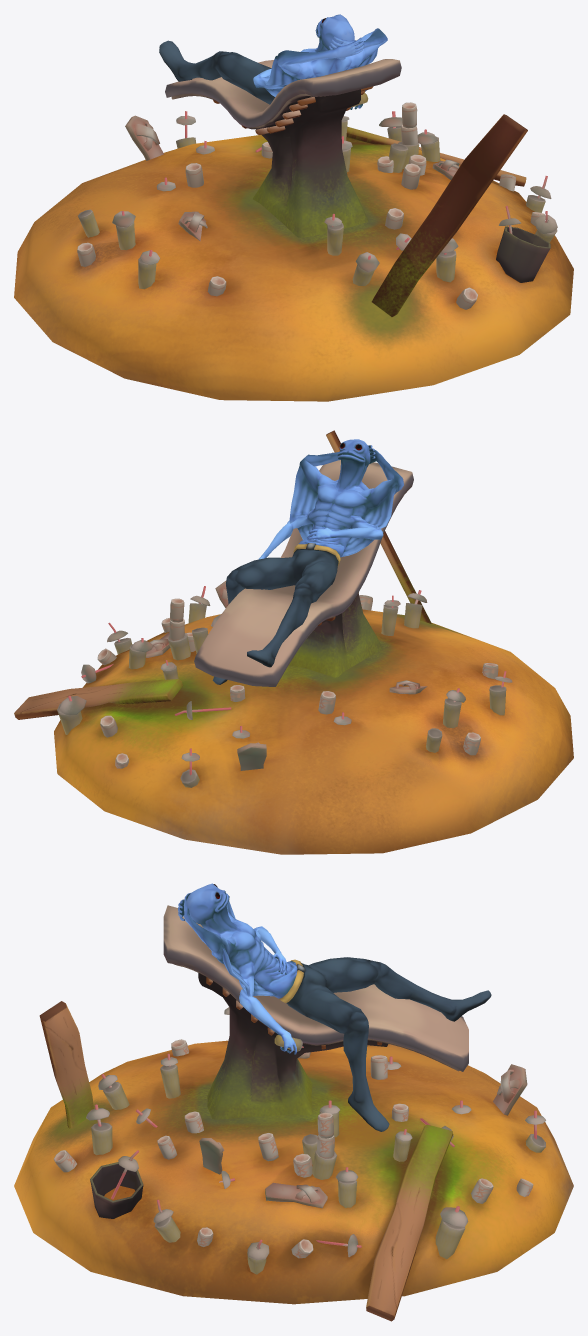
Rendered from Amphibian_Alien.glb.
3 views of the same model, one above another, from view 1: azimuth 30°, elevation 25°; view 2: azimuth 150°, elevation 25°; view 3: azimuth 270°, elevation 25° (orthographic). The views are drawn at different scales.
Parts seen in each view (by area): view 1: Cube_enviroment_0, wing_low_amphalien_0; view 2: Cube_enviroment_0, wing_low_amphalien_0; view 3: Cube_enviroment_0, wing_low_amphalien_0.
Part boxes in pixels (left/top/right/bottom): Cube_enviroment_0: left=14, top=59, right=573, bottom=401; wing_low_amphalien_0: left=159, top=14, right=387, bottom=109; Cube_enviroment_0: left=14, top=430, right=573, bottom=854; wing_low_amphalien_0: left=212, top=439, right=403, bottom=684; Cube_enviroment_0: left=14, top=905, right=573, bottom=1321; wing_low_amphalien_0: left=178, top=883, right=491, bottom=1131.
Size of the model in its own units: 25.75 by 14.38 by 24.16.
2 materials, 2 textured.
